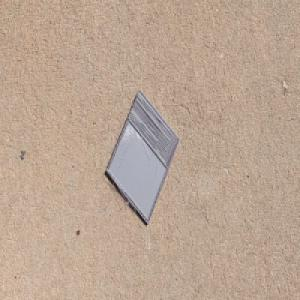PlasticPart: (104, 87, 181, 228)
